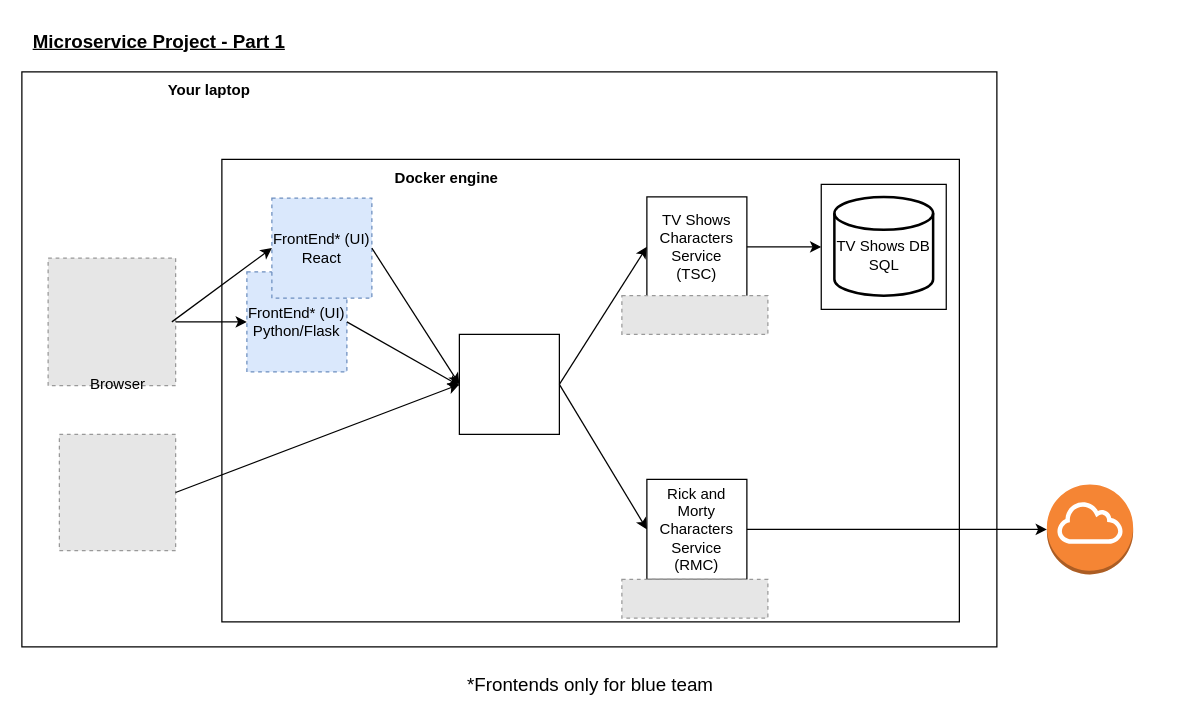
Image size: 1181x724. Some labels were removed from this diagram. Grey dashed boxes stand in for pictures. Here are the shapes that lost their labels. From the top down, the centre of each, then its label:
the point at 508,383: NGINX
the point at 1089,528: rickandmortyapi.com
